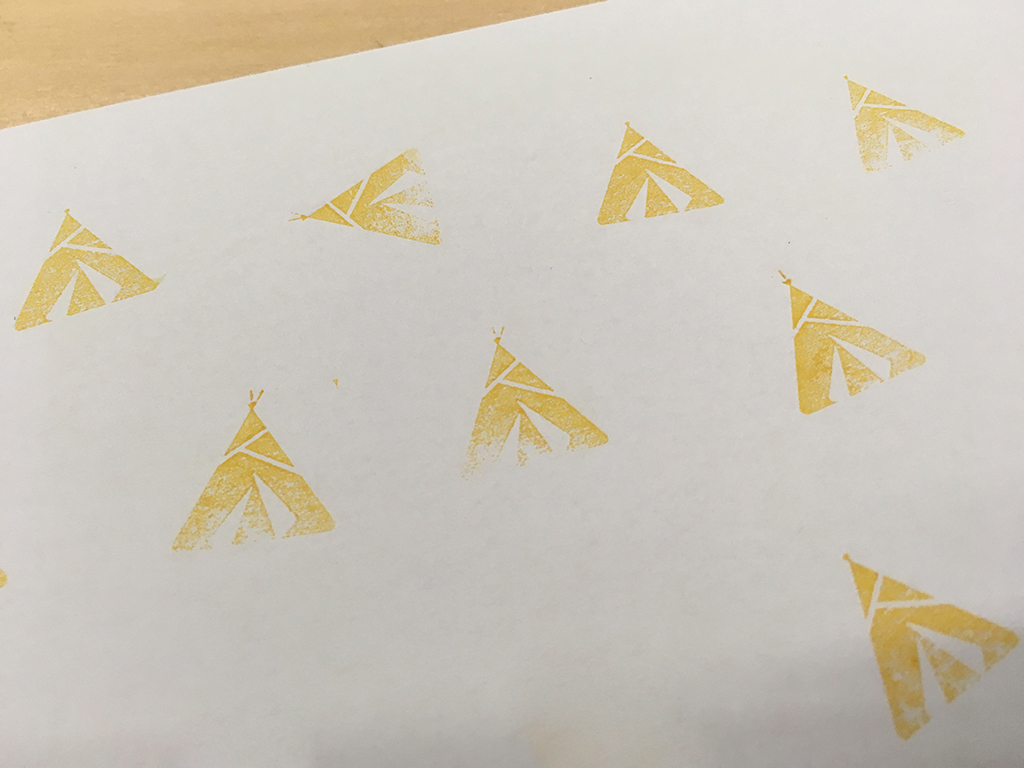tent: (830, 542, 1023, 749), (163, 388, 344, 556), (767, 263, 938, 426), (448, 322, 614, 478), (7, 198, 170, 338), (284, 142, 442, 255), (834, 69, 976, 179), (593, 116, 730, 229)
